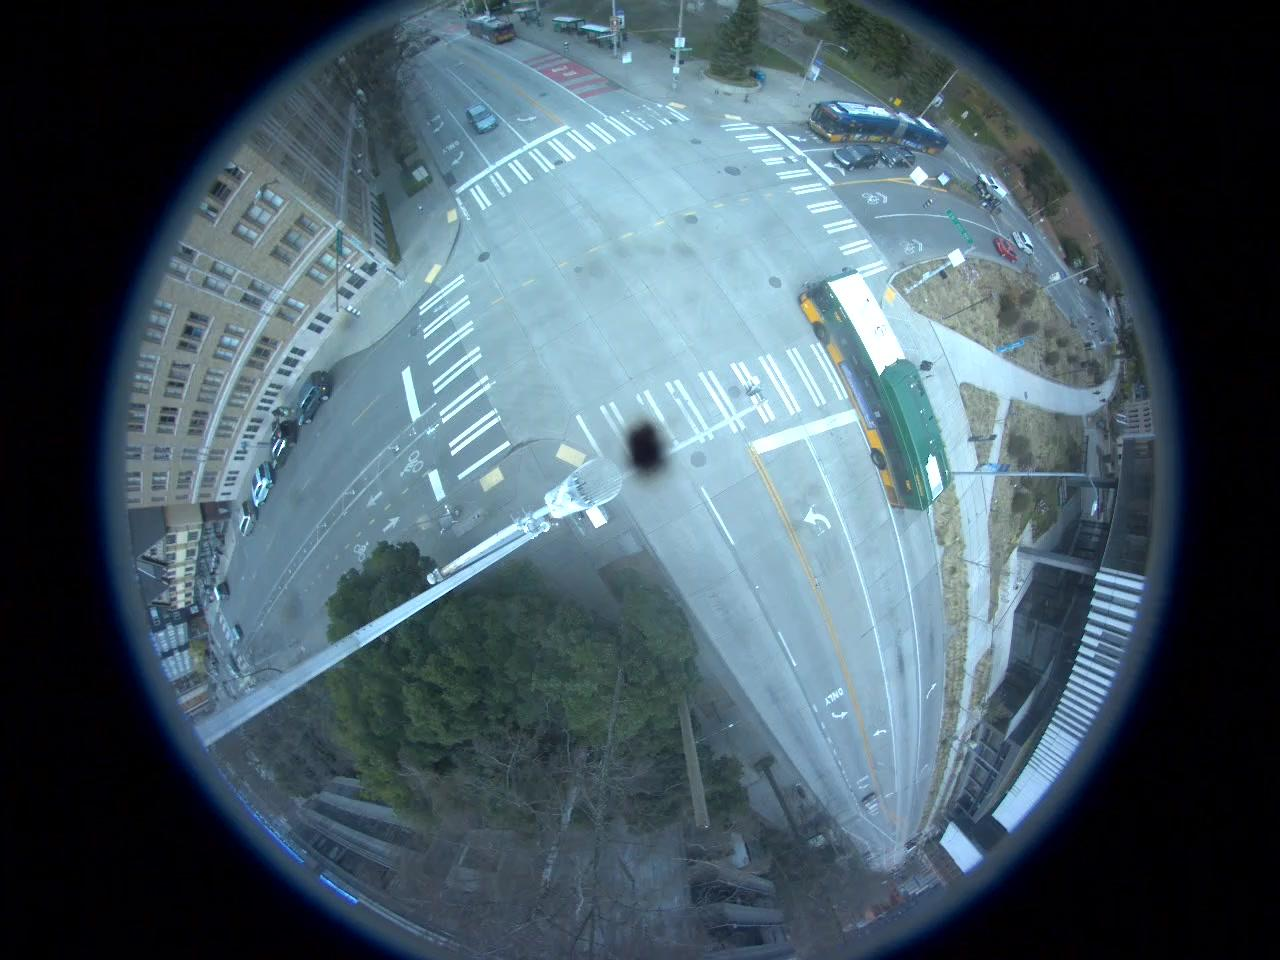bus: (802, 272, 951, 506), (809, 97, 948, 154), (462, 10, 516, 42)
car: (294, 369, 342, 428), (269, 420, 300, 466), (462, 104, 502, 136), (834, 145, 880, 172), (235, 503, 262, 538), (251, 464, 273, 505), (883, 146, 917, 170), (1010, 228, 1038, 255), (982, 170, 1008, 196), (992, 236, 1018, 262)
person: (914, 357, 937, 373)
